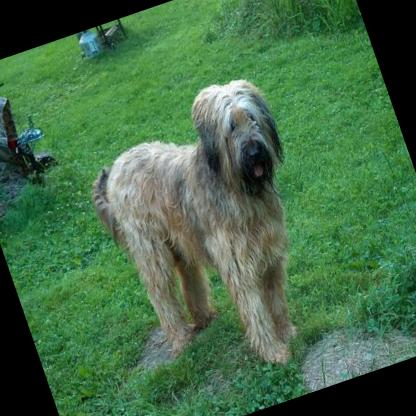briard: (68, 68, 350, 406)
